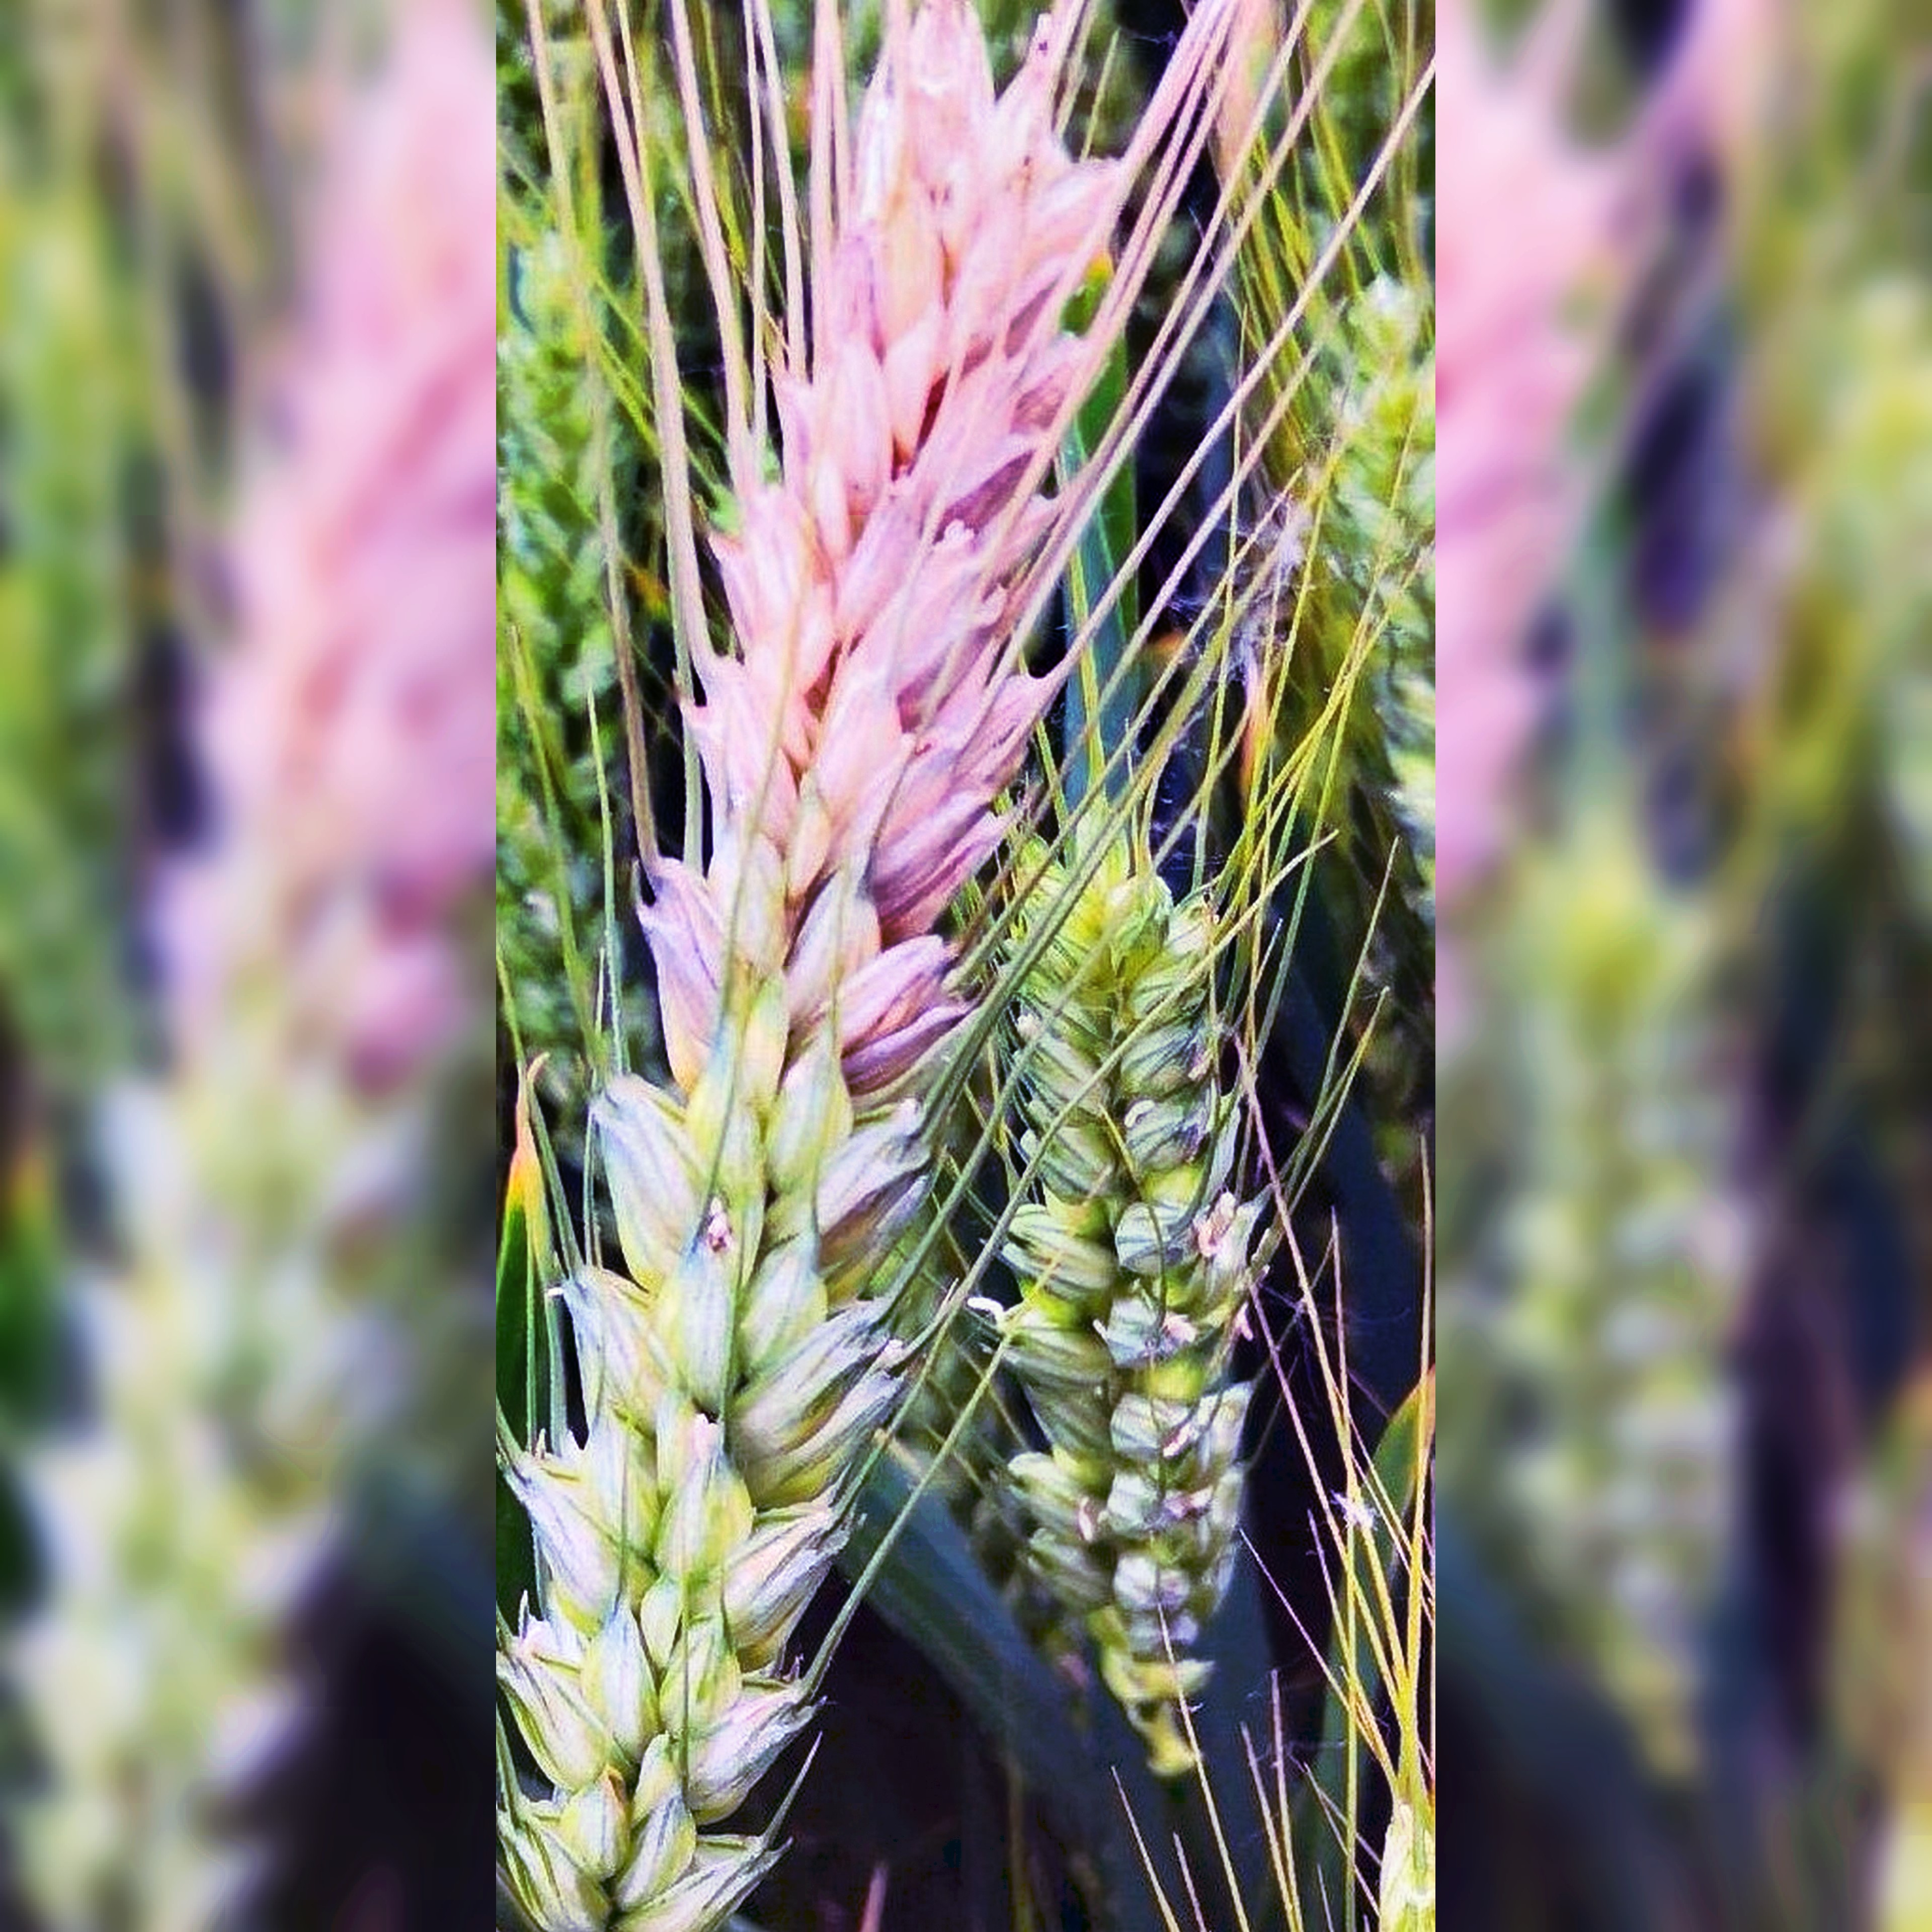Wheat scab: (563, 90, 1092, 1511)
